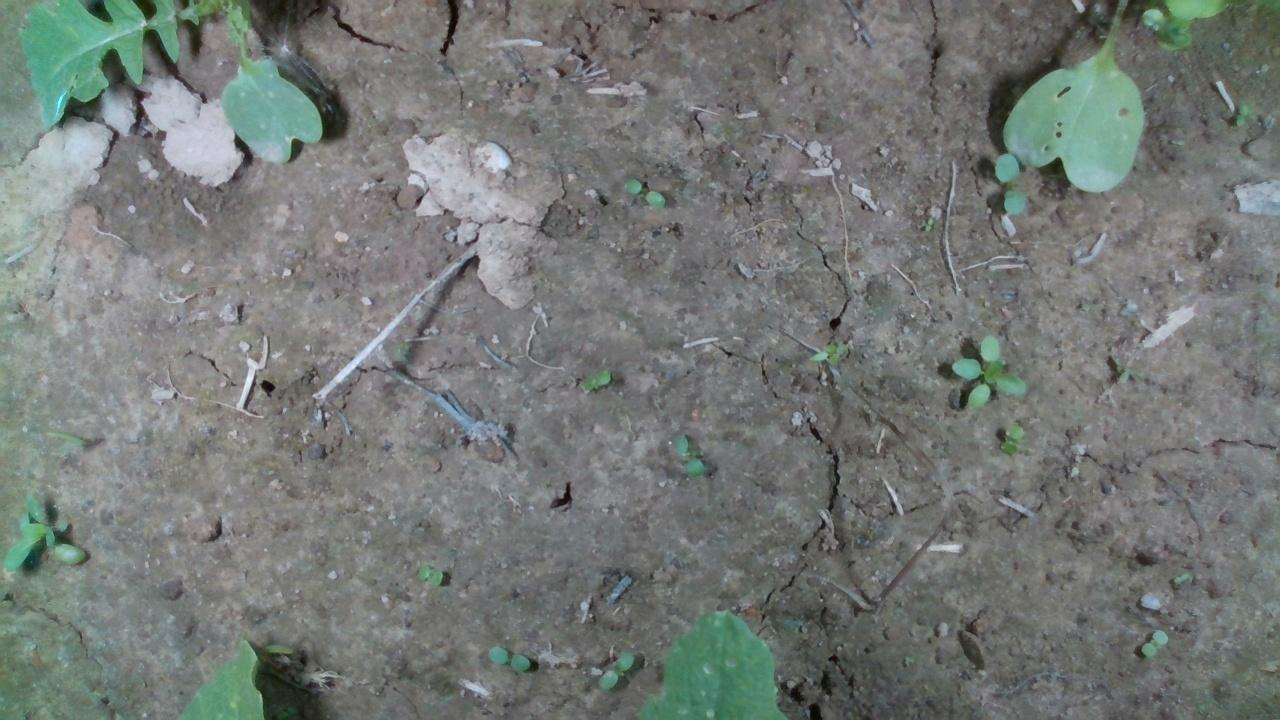weed: (618, 176, 668, 207), (411, 564, 445, 586)
